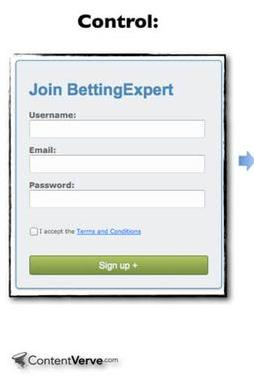button: (27, 253, 209, 276)
checkbox: (29, 225, 40, 237)
checkbox_with_label: (27, 223, 141, 238)
field: (27, 153, 206, 175), (27, 119, 206, 139), (27, 189, 206, 209)
field_with_label: (25, 145, 208, 177), (25, 111, 209, 141), (25, 181, 208, 210)
